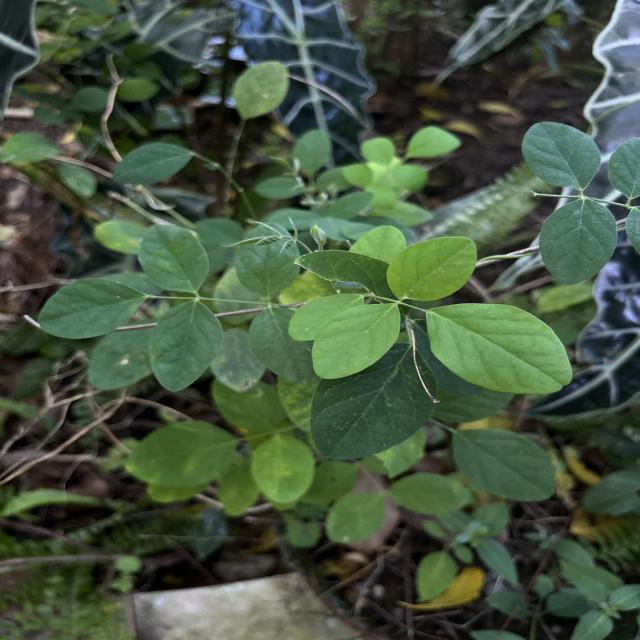Clitoria ternatea: (426, 302, 574, 395), (310, 302, 402, 380), (537, 199, 619, 286), (386, 236, 478, 302), (520, 121, 602, 192)
